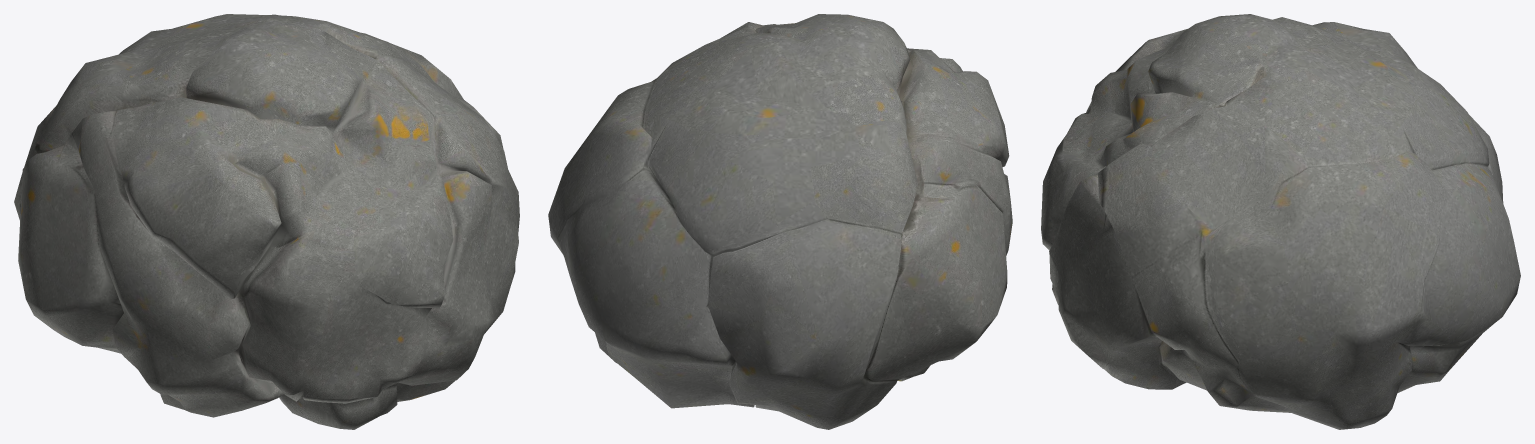
The model's file is boulder.glb.
3 renders of one model, left to right at view 1: azimuth 30°, elevation 25°; view 2: azimuth 150°, elevation 25°; view 3: azimuth 270°, elevation 25°, orthographic. The views are drawn at different scales.
Bounding box in the file's own units: 0.9414 × 0.7348 × 0.9575.
Materials: 1 (1 with a texture image).
